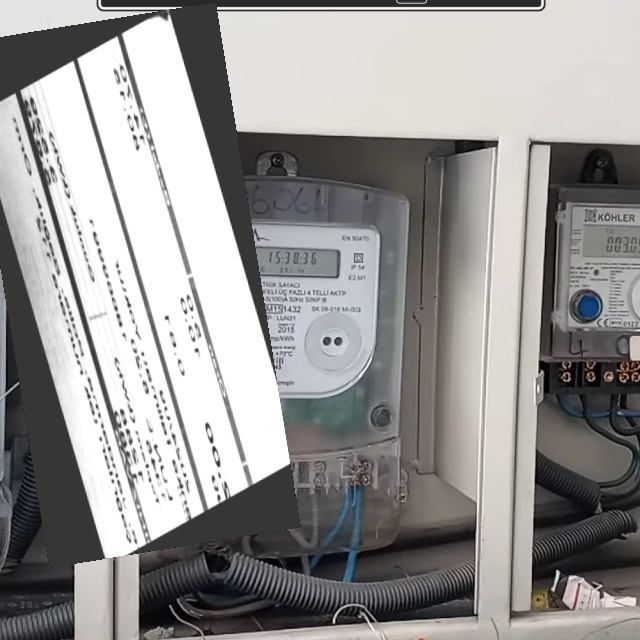electricity-bill: (0, 1, 301, 567)
